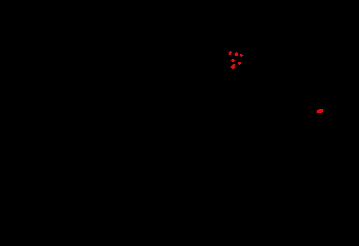Target: (317, 109, 323, 113), (231, 64, 235, 69), (229, 51, 232, 55), (235, 52, 238, 56), (231, 59, 235, 62), (240, 54, 243, 57), (238, 62, 241, 65)
